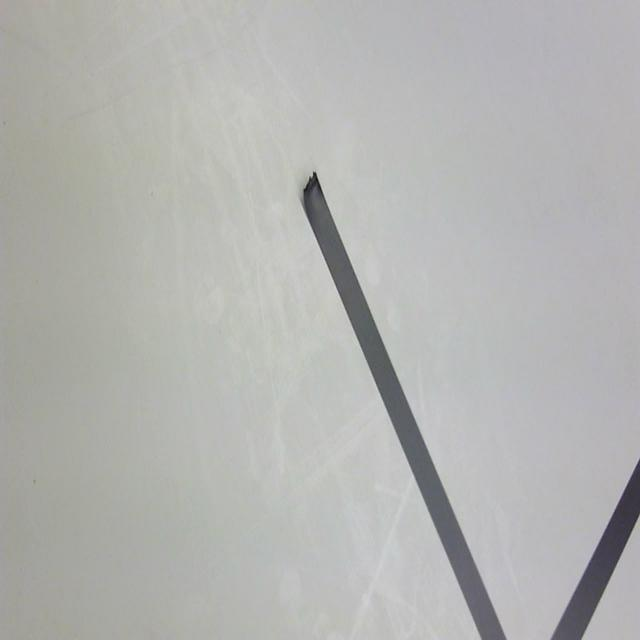tape: (274, 163, 640, 640)
